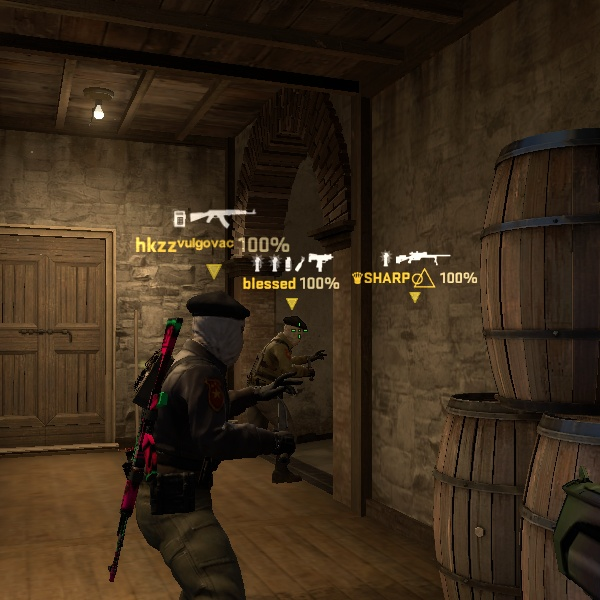t_body: (88, 288, 319, 596), (246, 311, 322, 485)
t_head: (168, 285, 260, 379), (271, 310, 310, 350)
